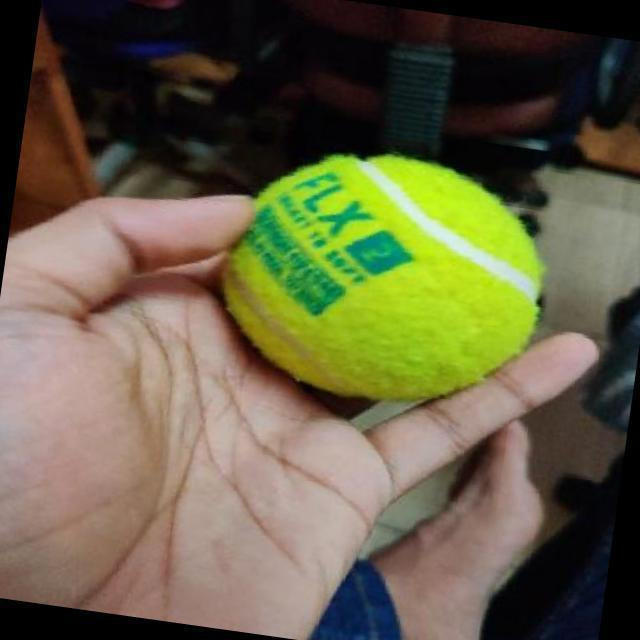-: (220, 125, 561, 420)
